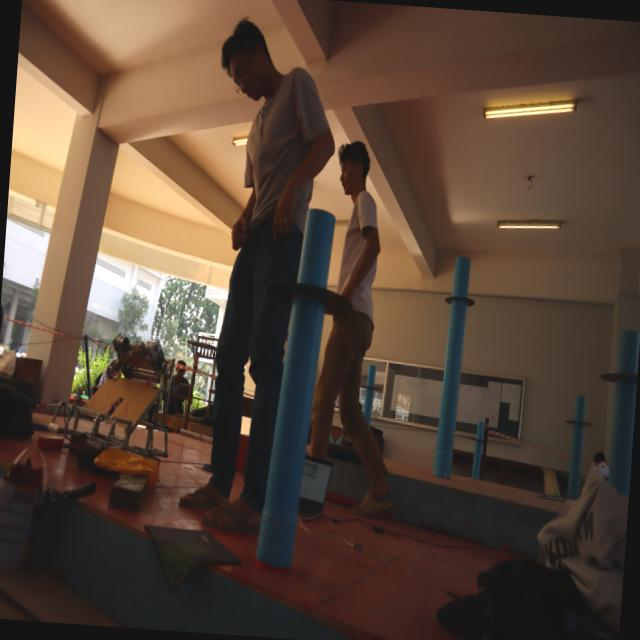pole: (250, 192, 374, 414)
